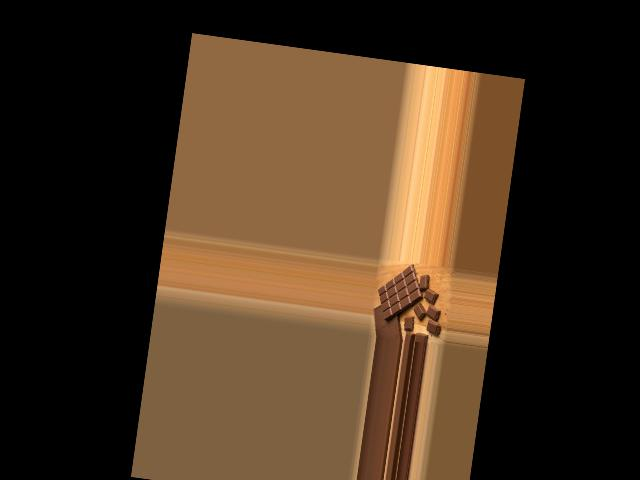chocolate: (374, 262, 429, 325)
